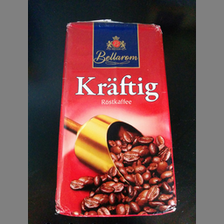coffee: (57, 20, 177, 218)
